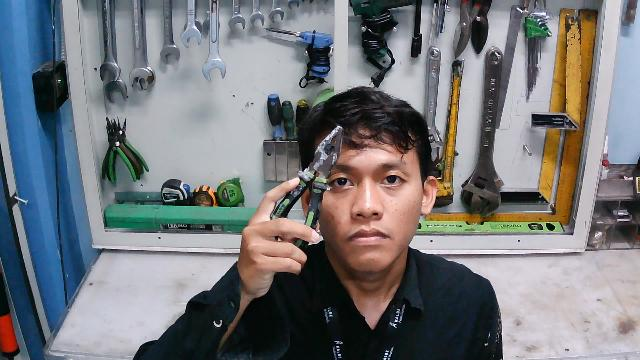tang_kombinasi: (256, 123, 346, 252)
